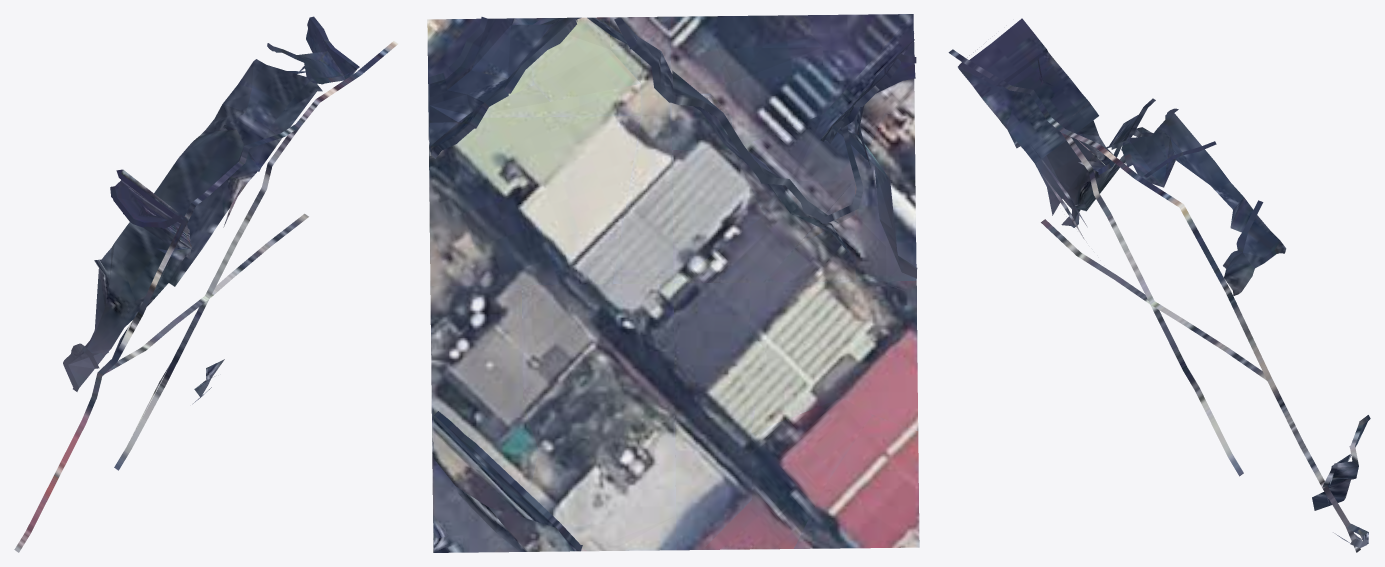
3 views of the same model, side by side, from view 1: azimuth 30°, elevation 25°; view 2: azimuth 150°, elevation 25°; view 3: azimuth 270°, elevation 25° (orthographic). The views are drawn at different scales.
Bounding box in the file's own units: 38.12 × 37.48 × 33.54.
1 material, 1 textured.
